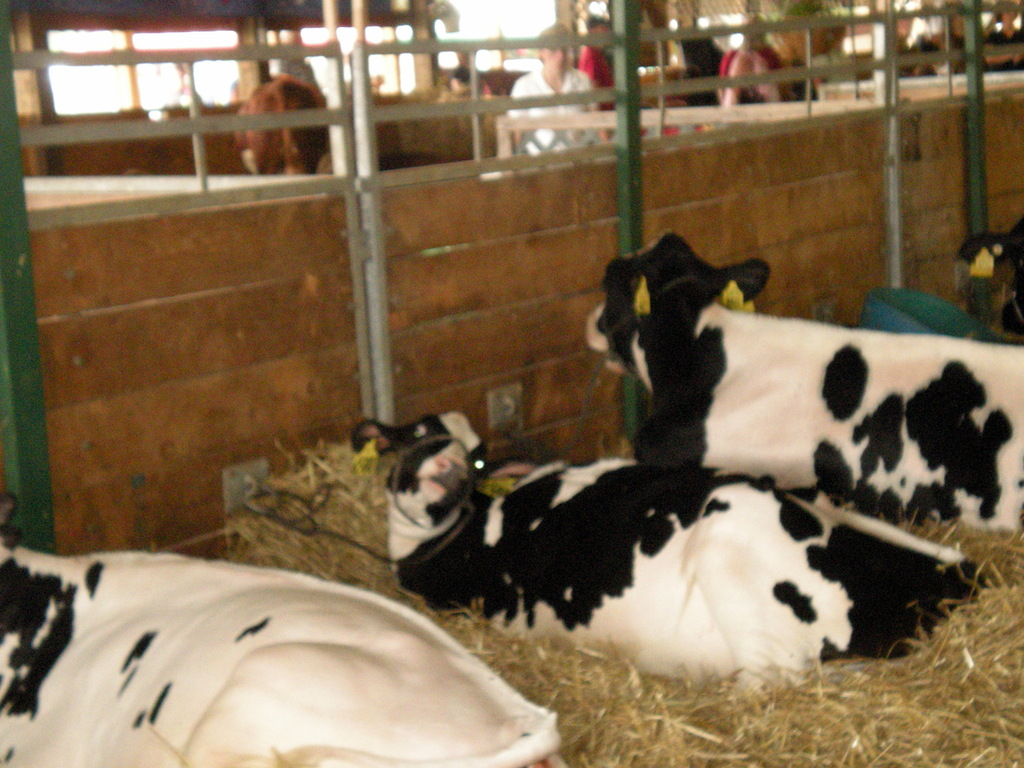person: (507, 21, 600, 153)
